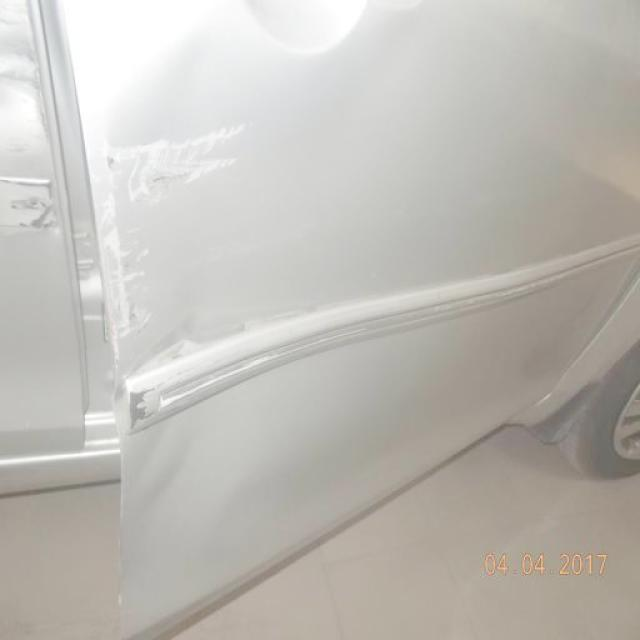car damage: (119, 276, 431, 444), (109, 116, 253, 211), (96, 130, 159, 341), (0, 0, 56, 157), (0, 175, 63, 242), (120, 356, 159, 442)
